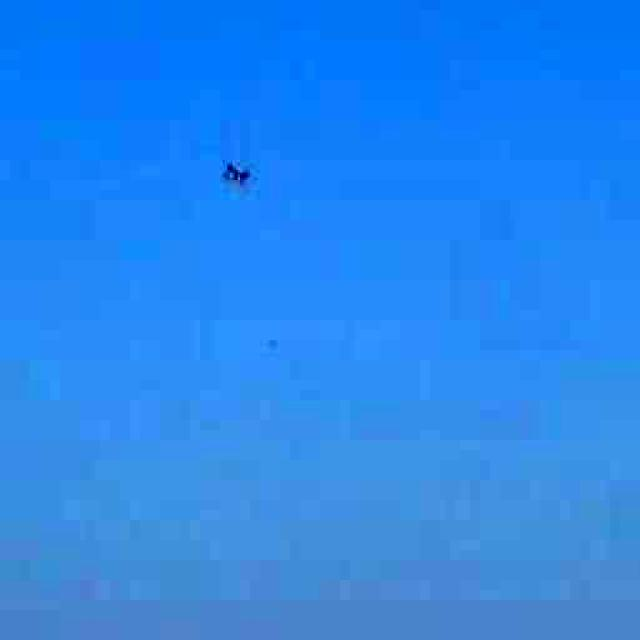bird: (190, 131, 270, 196)
